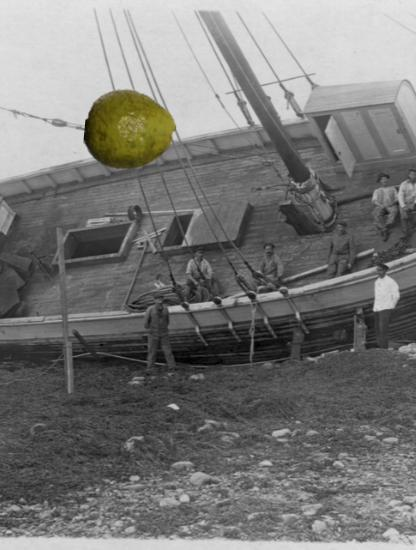Guava: (85, 85, 176, 176)
